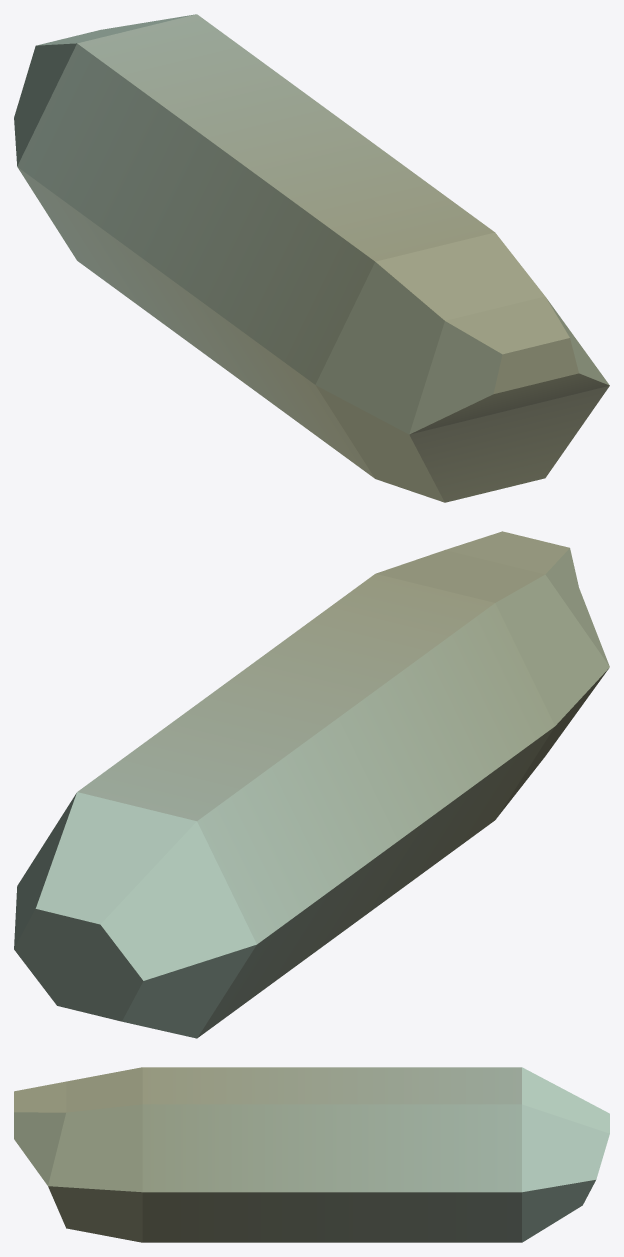
Rendered from ColoredCrystal.001.glb.
3 views of the same model, one above another, from view 1: azimuth 30°, elevation 25°; view 2: azimuth 150°, elevation 25°; view 3: azimuth 270°, elevation 25° (orthographic). The views are drawn at different scales.
Visible parts, largest first — view 1: ColoredCrystal.001; view 2: ColoredCrystal.001; view 3: ColoredCrystal.001.
Boxes of the visible parts, left/top/right/bottom form: ColoredCrystal.001: left=14, top=14, right=609, bottom=502; ColoredCrystal.001: left=14, top=531, right=609, bottom=1038; ColoredCrystal.001: left=14, top=1067, right=609, bottom=1242.
Size of the model in its own units: 146 by 127 by 495.
